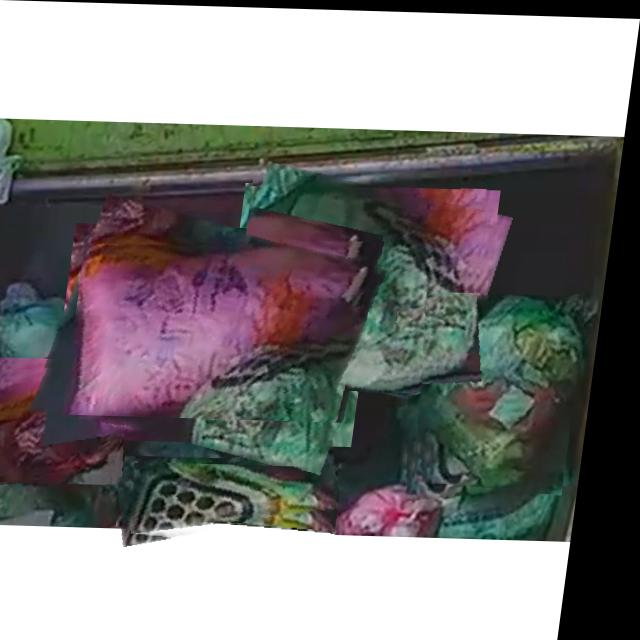general_trashbag: (247, 176, 477, 390), (427, 293, 590, 487), (143, 462, 352, 536)
other_trashbag: (82, 244, 374, 415), (0, 365, 132, 483)
